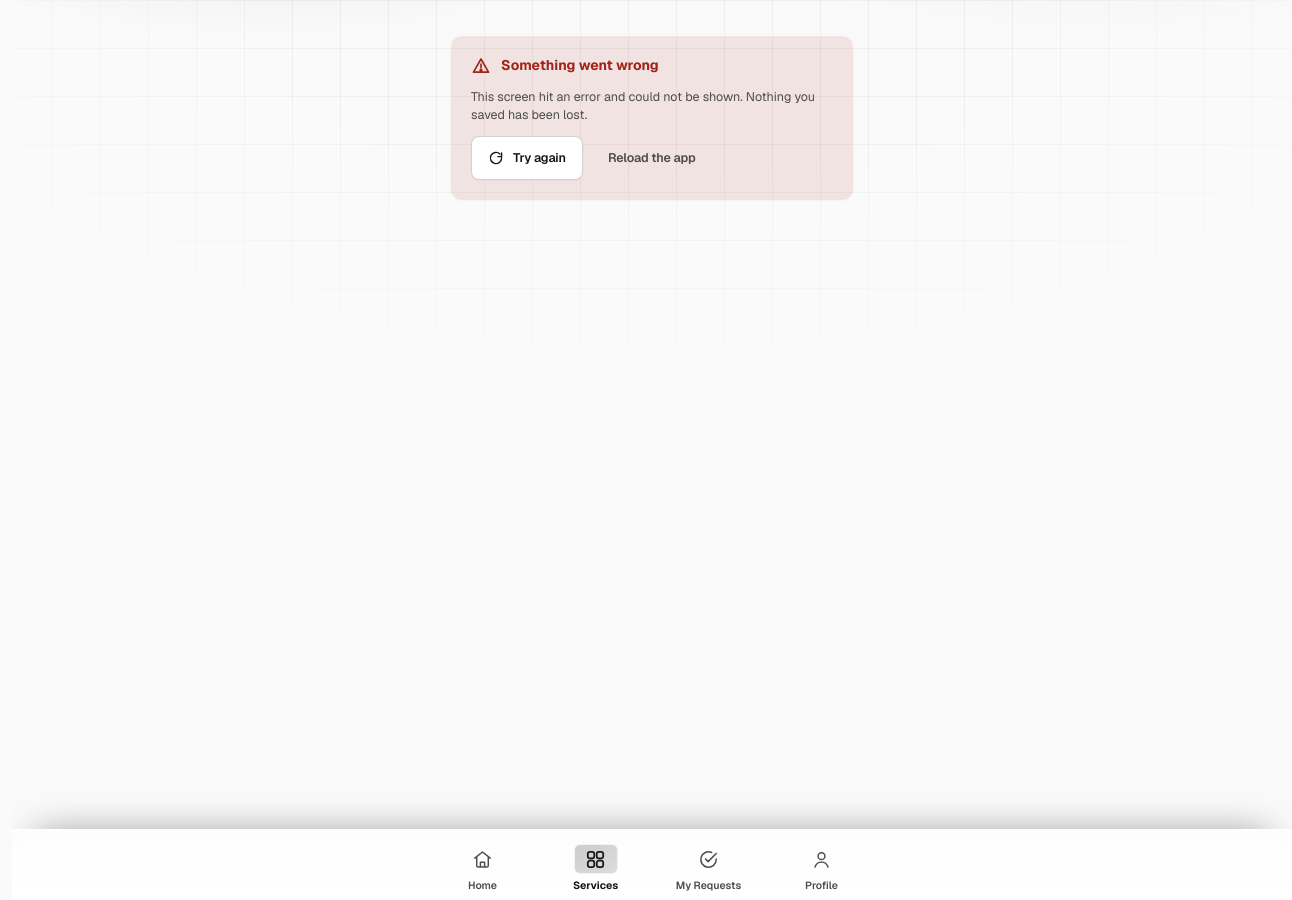
Test: BUG-011 — a crashing screen does not take the app down with it › "Try again" renders the screen afresh — a transient failure recovers in place
Step 1. Click the button "Try again" → (527, 158), box [471,136,583,180]
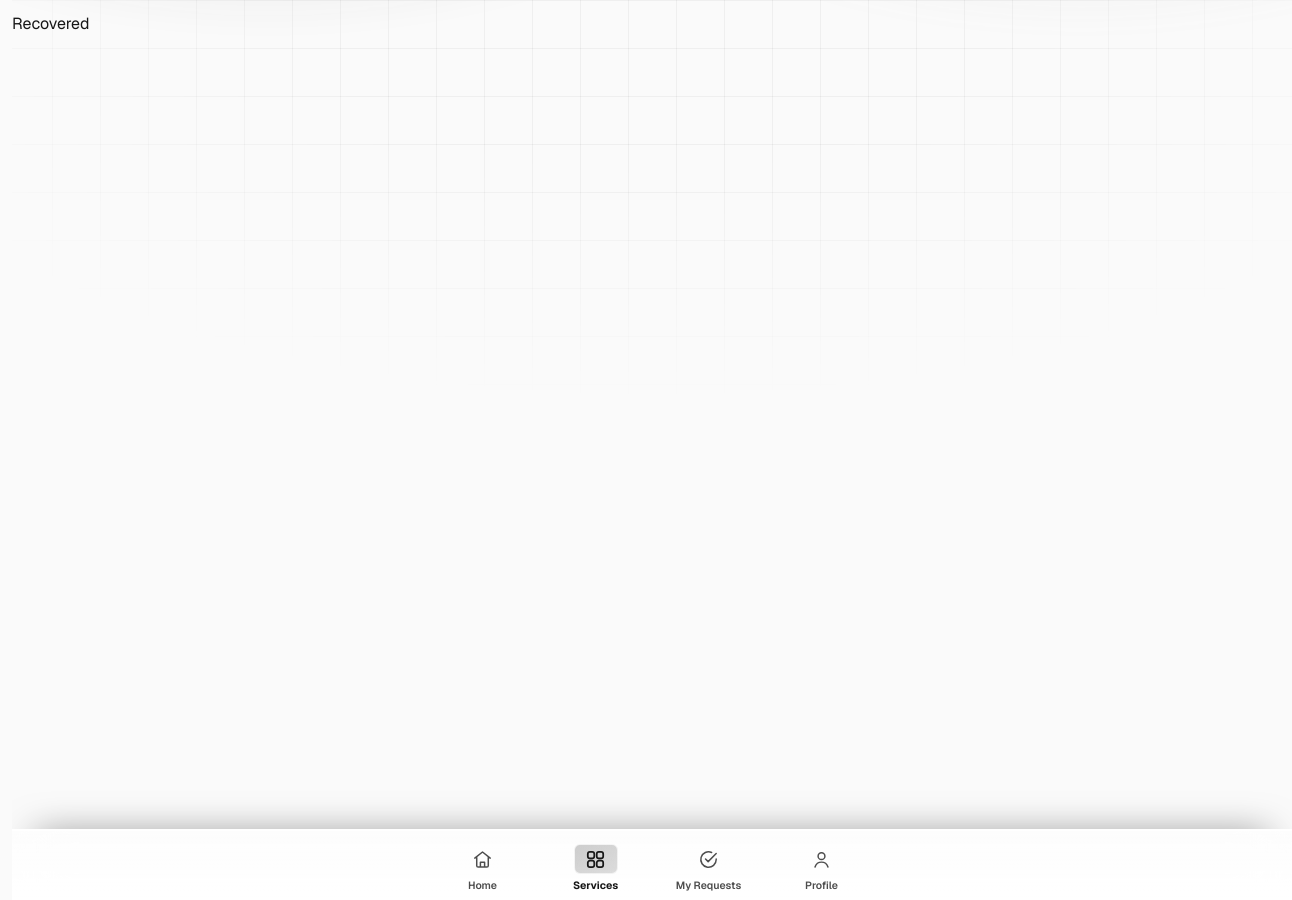
Now the text "Recovered" is shown, box [12,13,90,34]
Now the message is gone
